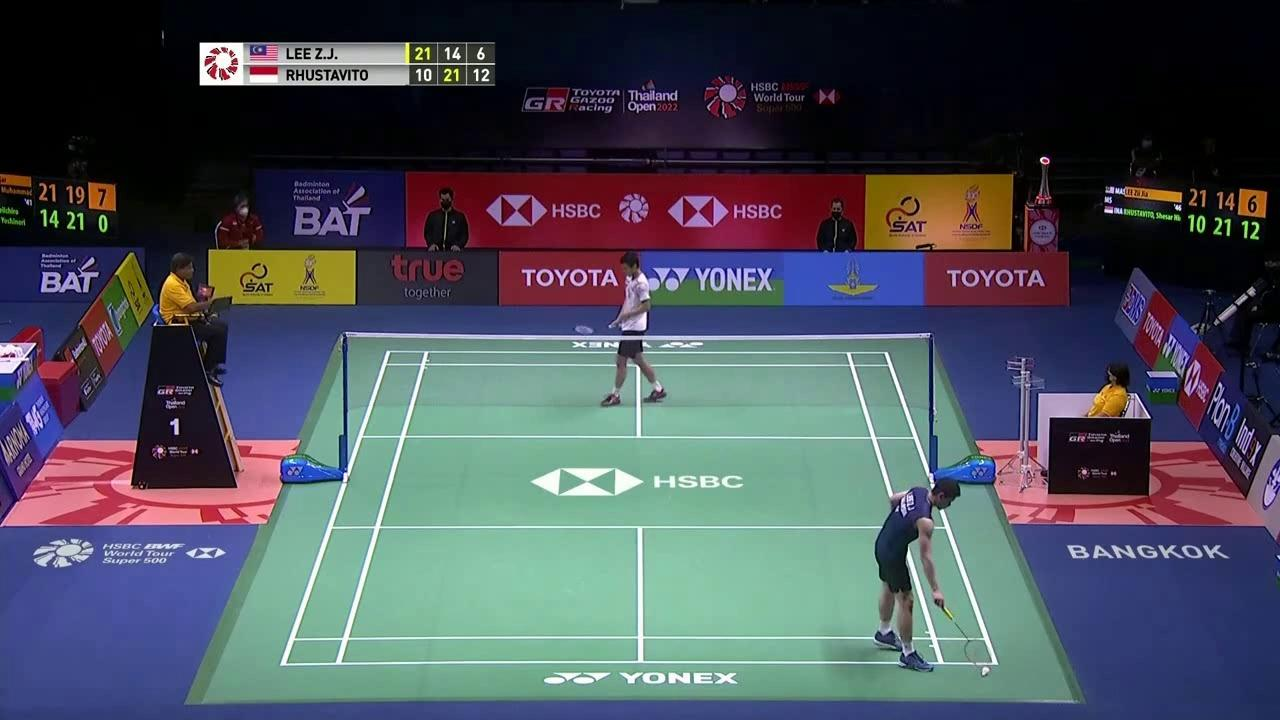racket: (936, 597, 995, 668), (570, 318, 623, 337)
shuttle: (978, 663, 994, 678)
